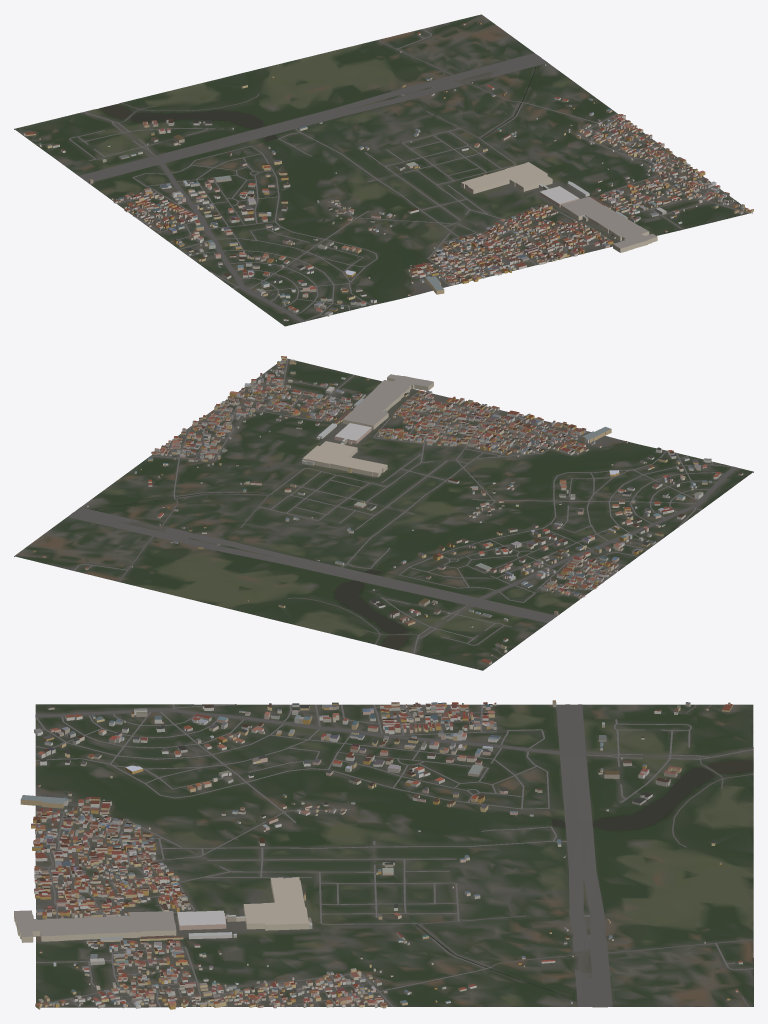
The picture shows the model from 3 angles, top to bottom: view 1: azimuth 30°, elevation 25°; view 2: azimuth 150°, elevation 25°; view 3: azimuth 270°, elevation 25°; orthographic projection. The views are drawn at different scales.
Visible parts, largest first — view 1: ground, buildings, roads, water; view 2: ground, buildings, roads, water; view 3: ground, buildings, roads, water.
Boxes of the visible parts, x1,y1,x2,y2 form: ground: (14,14,752,326); buildings: (23,22,753,321); roads: (30,15,749,322); water: (100,66,536,141); ground: (14,359,753,670); buildings: (33,356,743,664); roads: (16,358,737,659); water: (93,493,408,649); ground: (35,704,753,1007); buildings: (14,700,742,1009); roads: (35,704,753,1007); water: (415,760,752,999).
Bounding box in the file's own units: 1412 × 17.2 × 1445.
